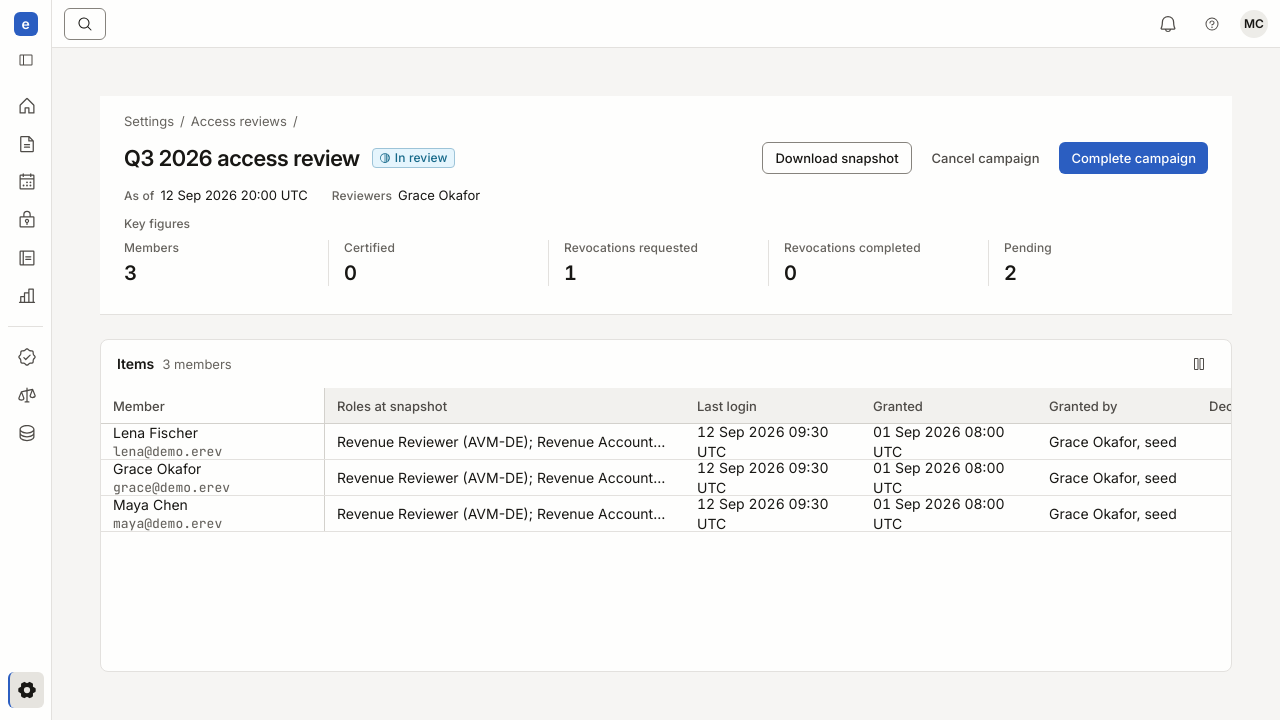
Test case: SF-14:access-review and REQ-CTL-006 › Complete campaign with pending items shows Decide 2 pending items before completing the campaign.
Expected: the heading "Q3 2026 access review" is shown, 124,144 -> 360,172
Click the button "Complete campaign": (1134, 158) 1060,142 -> 1208,174
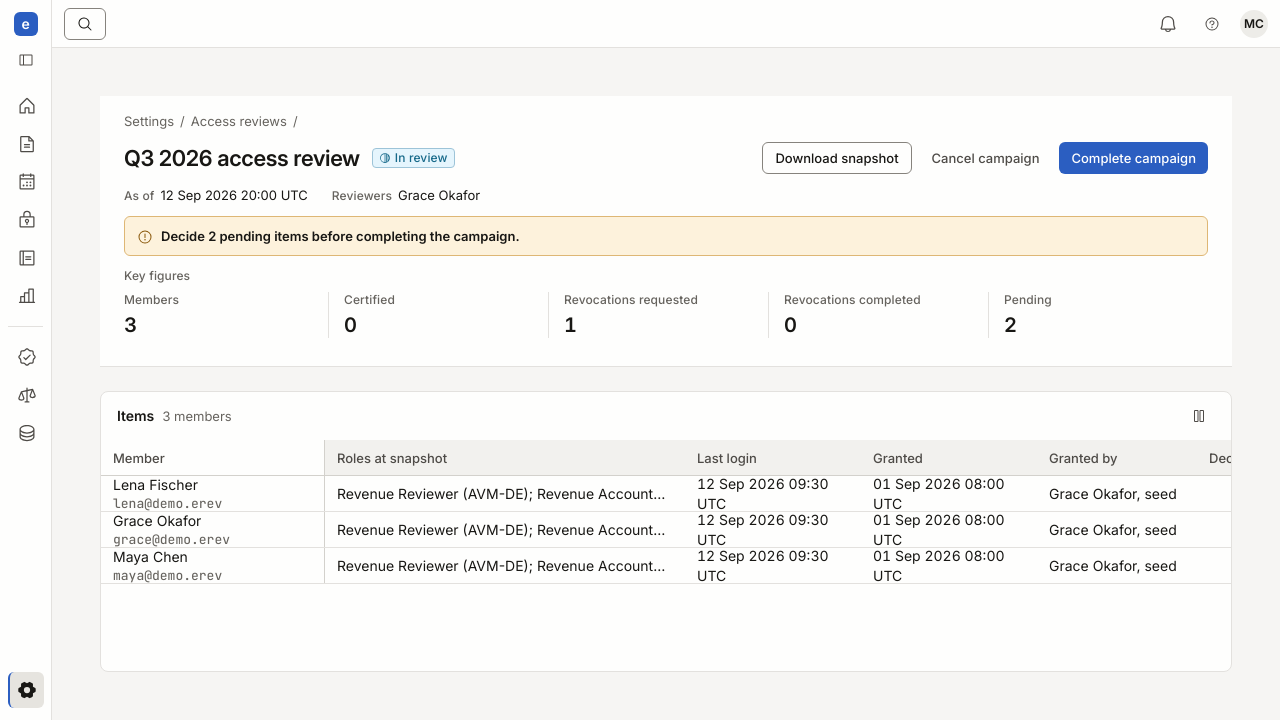
Expected: the element with test id "SF-14-banner-pending-items" reads "Decide 2 pending items before completing the campaign.", 161,228 -> 520,244
